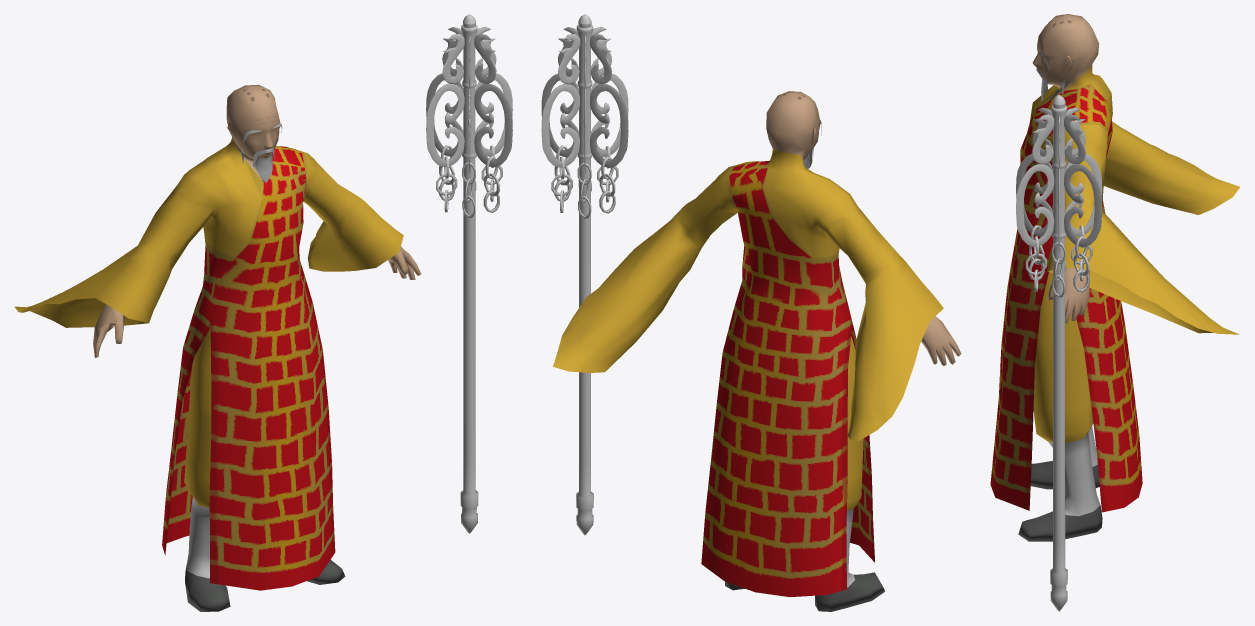
The model's file is fangzhang.fbx.
The picture shows the model from 3 angles, left to right: view 1: azimuth 30°, elevation 25°; view 2: azimuth 150°, elevation 25°; view 3: azimuth 270°, elevation 25°; orthographic projection.
Visible parts, largest first — view 1: FangZhang1, ChanZhan; view 2: FangZhang1, ChanZhan; view 3: FangZhang1, ChanZhan.
Boxes of the visible parts, x1,y1,x2,y2 form: FangZhang1: (14, 84, 420, 611); ChanZhan: (426, 14, 512, 533); FangZhang1: (553, 91, 961, 611); ChanZhan: (541, 14, 628, 535); FangZhang1: (990, 14, 1239, 541); ChanZhan: (1016, 95, 1102, 611).
Size of the model in its own units: 160 by 189 by 82.86.
